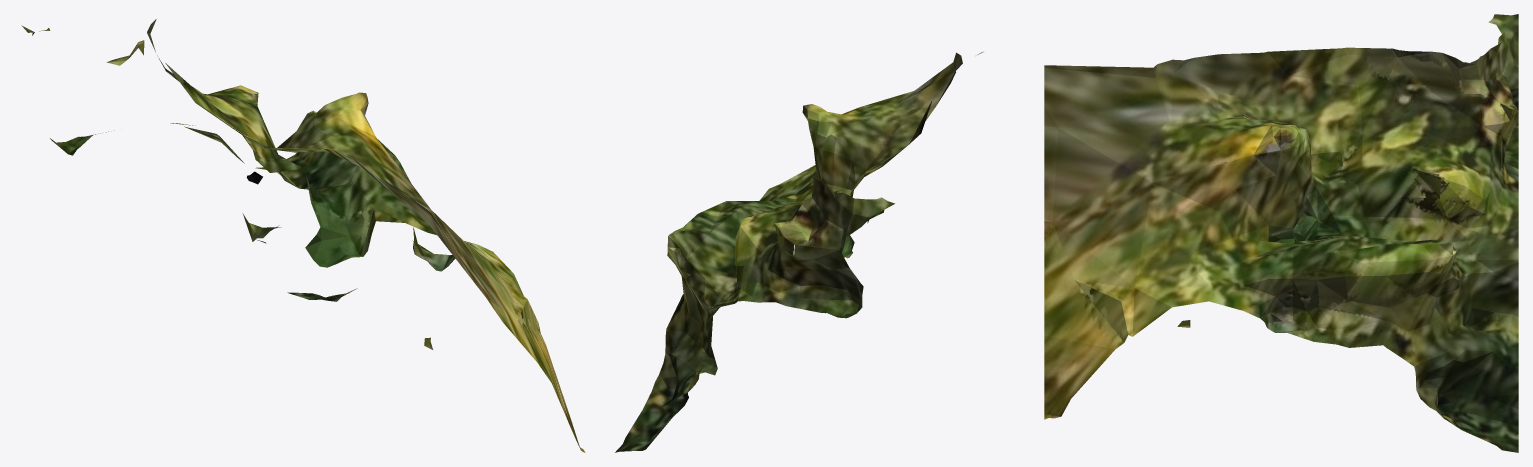
3 views of the same model, side by side, from view 1: azimuth 30°, elevation 25°; view 2: azimuth 150°, elevation 25°; view 3: azimuth 270°, elevation 25° (orthographic). The views are drawn at different scales.
Size of the model in its own units: 1.1 by 1.2 by 1.67.
Materials: 3 (3 with a texture image).
